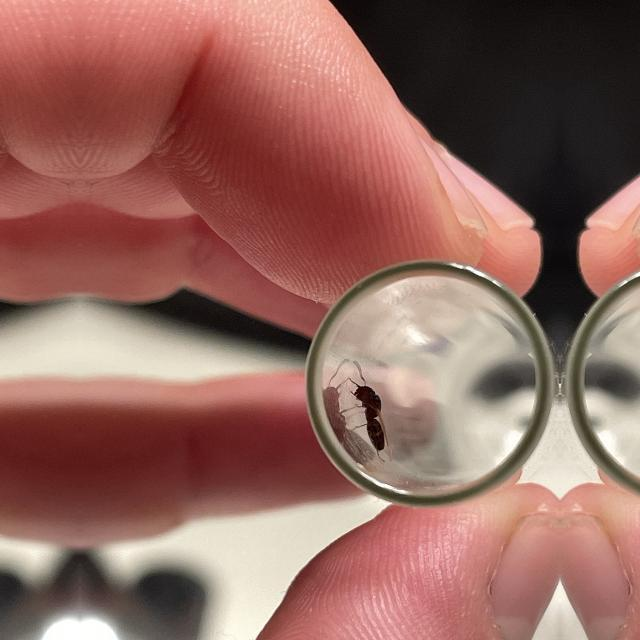Colobopsis: (345, 368, 391, 456)
